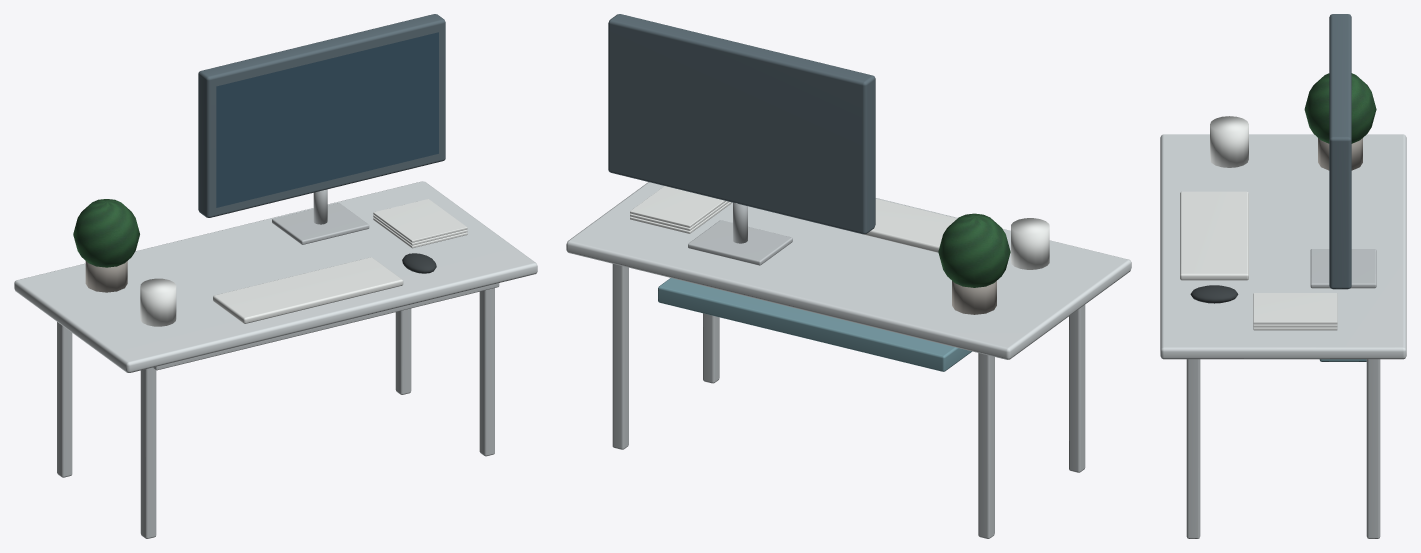
The model's file is desk_cloud.glb.
The picture shows the model from 3 angles, left to right: view 1: azimuth 30°, elevation 25°; view 2: azimuth 150°, elevation 25°; view 3: azimuth 270°, elevation 25°; orthographic projection. The views are drawn at different scales.
Visible parts, largest first — view 1: DeskTop, Screen, MonitorCase, DeskLeg (×4), Keyboard, TinyPlant, Document, MonitorFoot, DeskCup, DeskRail, TinyPlantPot; view 2: MonitorCase, DeskTop, DeskLeg (×4), CableTray, TinyPlant, Keyboard, MonitorFoot, Document, DeskCup, TinyPlantPot; view 3: DeskTop, MonitorCase, Keyboard, DeskLeg (×2), Document (×3), TinyPlant, DeskCup, MonitorFoot, Mouse, TinyPlantPot.
Boxes of the visible parts, x1=… form: DeskTop: x1=14, y1=181, x2=537, y2=372; Screen: x1=216, y1=32, x2=438, y2=207; MonitorCase: x1=198, y1=14, x2=445, y2=217; DeskLeg (×4): x1=57, y1=288, x2=494, y2=538; Keyboard: x1=213, y1=257, x2=403, y2=323; TinyPlant: x1=73, y1=199, x2=139, y2=267; Document: x1=373, y1=199, x2=467, y2=242; MonitorFoot: x1=272, y1=203, x2=369, y2=244; DeskCup: x1=140, y1=278, x2=176, y2=326; DeskRail: x1=153, y1=283, x2=499, y2=370; TinyPlantPot: x1=85, y1=261, x2=127, y2=292; MonitorCase: x1=608, y1=14, x2=875, y2=234; DeskTop: x1=566, y1=182, x2=1131, y2=359; DeskLeg (×4): x1=612, y1=264, x2=1085, y2=538; CableTray: x1=658, y1=278, x2=971, y2=371; TinyPlant: x1=938, y1=213, x2=1010, y2=287; Keyboard: x1=788, y1=198, x2=957, y2=252; MonitorFoot: x1=688, y1=220, x2=792, y2=265; Document: x1=630, y1=186, x2=726, y2=227; DeskCup: x1=1011, y1=218, x2=1049, y2=269; TinyPlantPot: x1=952, y1=281, x2=996, y2=314; DeskTop: x1=1160, y1=134, x2=1406, y2=359; MonitorCase: x1=1329, y1=14, x2=1351, y2=289; Keyboard: x1=1180, y1=191, x2=1248, y2=280; DeskLeg (×2): x1=1186, y1=359, x2=1380, y2=538; Document (×3): x1=1253, y1=293, x2=1337, y2=330; TinyPlant: x1=1304, y1=73, x2=1376, y2=143; DeskCup: x1=1210, y1=116, x2=1248, y2=167; MonitorFoot: x1=1310, y1=249, x2=1376, y2=288; Mouse: x1=1190, y1=285, x2=1238, y2=303; TinyPlantPot: x1=1318, y1=138, x2=1362, y2=170.
Bounding box in the file's own units: 1.7 × 1.51 × 0.82.
Materials: 9 (1 with a texture image).
